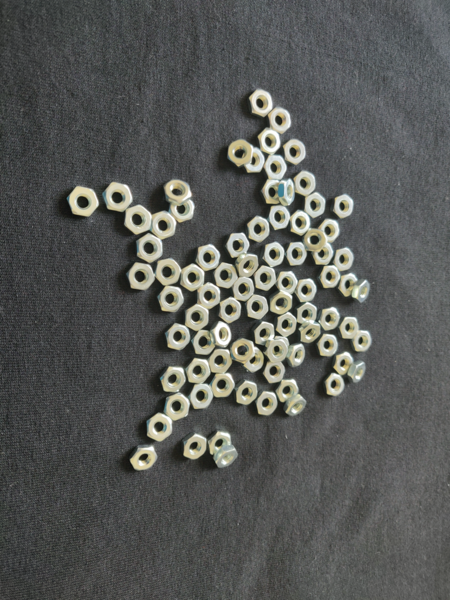nut: (122, 203, 153, 237), (66, 186, 99, 217), (101, 182, 133, 211), (125, 261, 154, 292), (163, 321, 191, 353), (163, 176, 192, 205), (158, 364, 187, 392), (178, 432, 208, 459), (182, 303, 210, 331), (247, 88, 274, 117), (154, 289, 185, 314), (136, 235, 163, 263), (154, 260, 182, 287), (164, 394, 191, 422), (128, 446, 159, 470), (227, 139, 254, 166), (282, 137, 308, 165), (150, 211, 176, 239), (144, 414, 172, 440), (186, 358, 211, 387), (195, 245, 221, 272), (178, 265, 204, 292), (209, 321, 235, 348), (213, 263, 238, 290), (230, 337, 255, 364), (248, 215, 270, 245), (217, 298, 243, 323), (233, 380, 259, 405), (262, 241, 286, 268), (208, 374, 235, 398), (188, 385, 213, 410), (263, 156, 289, 180), (267, 205, 291, 231), (225, 233, 249, 259), (206, 350, 232, 374), (253, 393, 278, 417), (274, 380, 299, 404), (169, 201, 195, 224), (197, 283, 220, 309), (269, 106, 291, 133), (206, 431, 230, 455), (266, 339, 290, 363), (276, 269, 300, 293), (332, 247, 355, 272), (234, 277, 256, 303), (293, 302, 319, 324), (245, 344, 265, 372), (254, 267, 277, 291), (283, 242, 307, 265), (316, 266, 340, 289), (246, 147, 265, 176), (334, 194, 356, 219), (295, 170, 316, 196), (289, 211, 310, 237), (258, 129, 281, 152), (333, 352, 356, 375), (246, 296, 268, 320), (324, 374, 346, 398), (293, 280, 317, 302), (304, 231, 328, 253), (317, 334, 339, 358), (261, 180, 282, 205), (304, 193, 325, 218), (254, 321, 275, 345), (236, 256, 259, 277), (337, 318, 360, 339), (284, 396, 308, 416), (193, 331, 212, 356), (262, 364, 287, 383), (269, 294, 291, 315), (321, 221, 341, 244), (276, 315, 295, 339), (213, 450, 239, 467), (319, 309, 340, 330), (353, 329, 373, 351), (312, 245, 332, 266), (298, 324, 319, 344), (287, 346, 306, 368), (280, 179, 295, 206), (353, 280, 371, 302), (349, 363, 367, 383), (341, 273, 356, 296)
